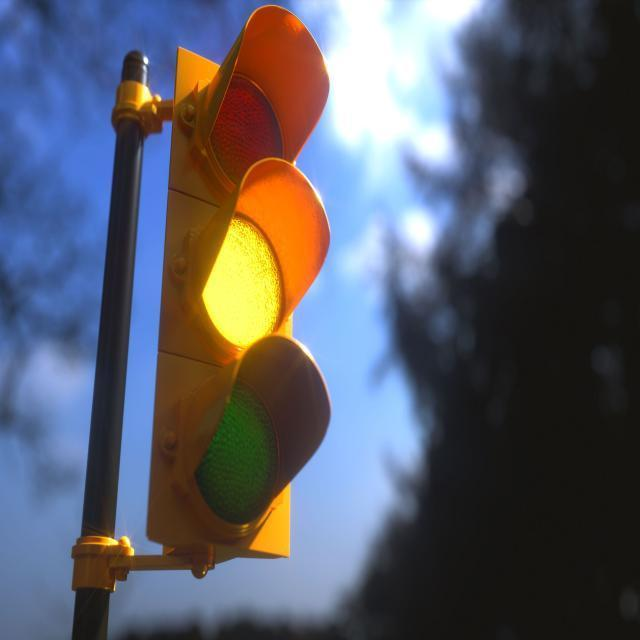yellow_light: (147, 0, 332, 563)
